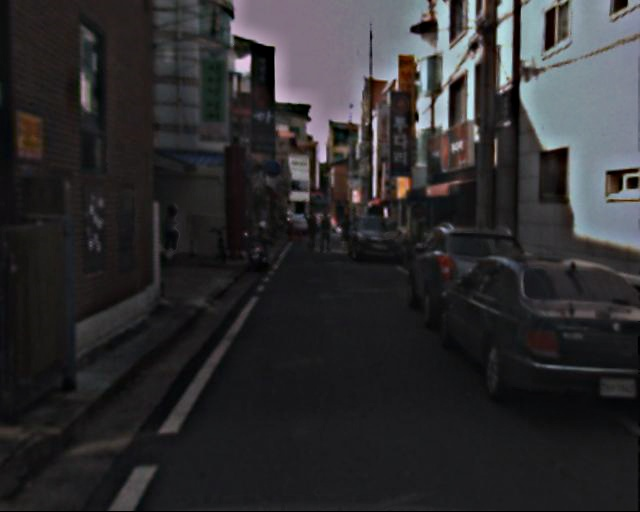person: (161, 201, 187, 265), (302, 211, 320, 255), (318, 210, 336, 253), (337, 213, 354, 255)
